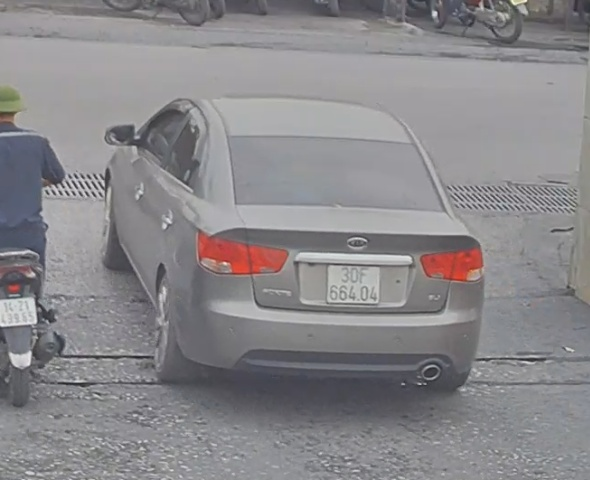vehicle plate: (325, 256, 380, 306)
